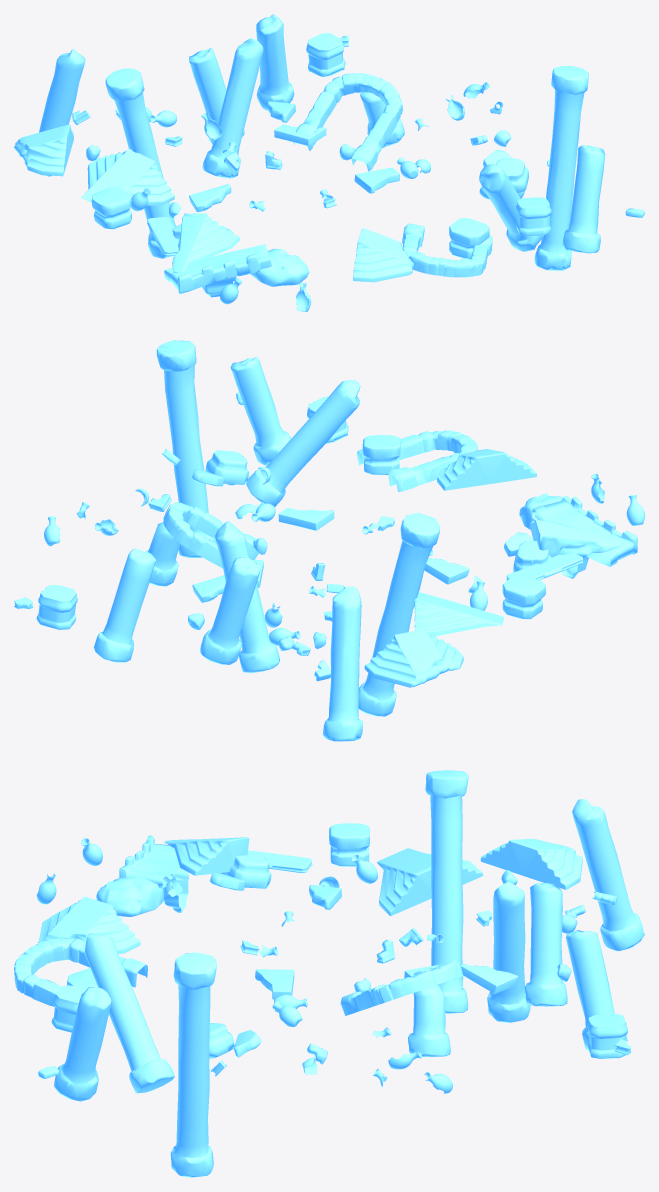
File: Limbo.fbx
3 views of the same model, one above another, from view 1: azimuth 30°, elevation 25°; view 2: azimuth 150°, elevation 25°; view 3: azimuth 270°, elevation 25° (orthographic). The views are drawn at different scales.
Parts seen in each view (by area): view 1: Limbo; view 2: Limbo; view 3: Limbo.
Boxes of the visible parts, bbox=[...] form: Limbo: bbox=[14, 14, 644, 311]; Limbo: bbox=[14, 340, 644, 741]; Limbo: bbox=[14, 770, 644, 1177].
Size of the model in its own units: 17.74 by 7.49 by 19.43.
